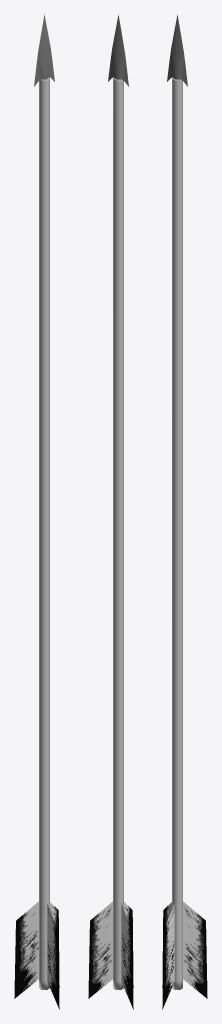
Rendered from arrow_iron.fbx.
3 views of the same model, side by side, from view 1: azimuth 30°, elevation 25°; view 2: azimuth 150°, elevation 25°; view 3: azimuth 330°, elevation 25° (orthographic).
Parts seen in each view (by area): view 1: ArrowIron; view 2: ArrowIron; view 3: ArrowIron.
Boxes of the visible parts, x1,y1,x2,y2 form: ArrowIron: (14,14,59,1009); ArrowIron: (88,14,133,1009); ArrowIron: (162,14,207,1009).
Bounding box in the file's own units: 0.1543 × 3.72 × 0.1781.
